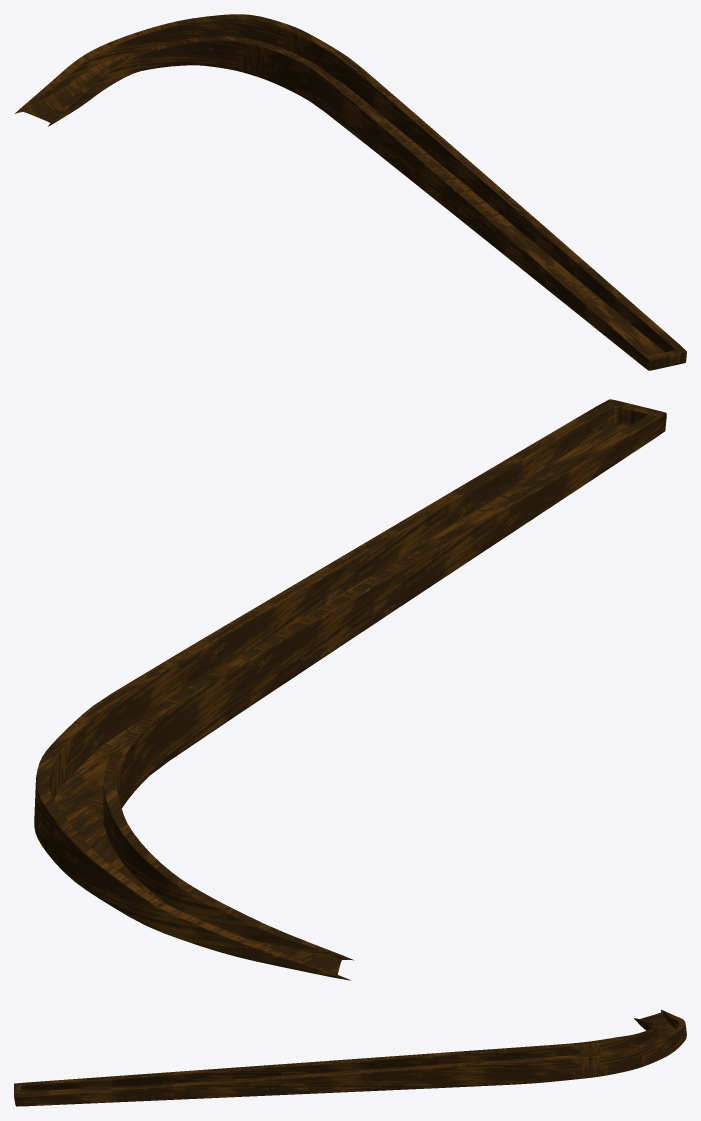
The model's file is ramp_launch.glb.
3 renders of one model, top to bottom at view 1: azimuth 30°, elevation 25°; view 2: azimuth 150°, elevation 25°; view 3: azimuth 270°, elevation 25°, orthographic. The views are drawn at different scales.
Visible parts, largest first — view 1: Cube.009; view 2: Cube.009; view 3: Cube.009.
Part boxes in pixels (x1,y1,x2,y2): Cube.009: (15,14,686,370); Cube.009: (34,399,666,980); Cube.009: (14,1009,686,1106).
Size of the model in its own units: 0.497 by 0.1151 by 1.49.
Materials: 1 (1 with a texture image).
